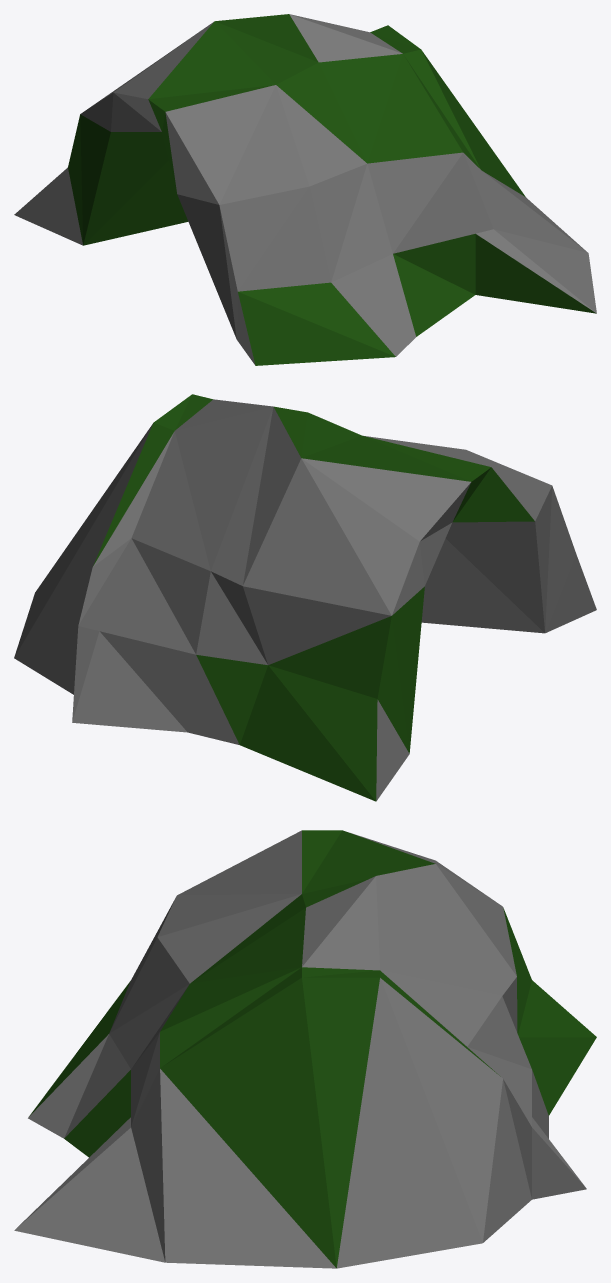
Rendered from Cave_2.fbx.
3 views of the same model, one above another, from view 1: azimuth 30°, elevation 25°; view 2: azimuth 150°, elevation 25°; view 3: azimuth 270°, elevation 25° (orthographic). The views are drawn at different scales.
Parts seen in each view (by area): view 1: Cave_2; view 2: Cave_2; view 3: Cave_2.
Boxes of the visible parts, <box> form: Cave_2: <box>14,14,596,365</box>; Cave_2: <box>14,394,596,801</box>; Cave_2: <box>14,830,596,1268</box>.
Bounding box in the file's own units: 1394 × 746 × 1483.
